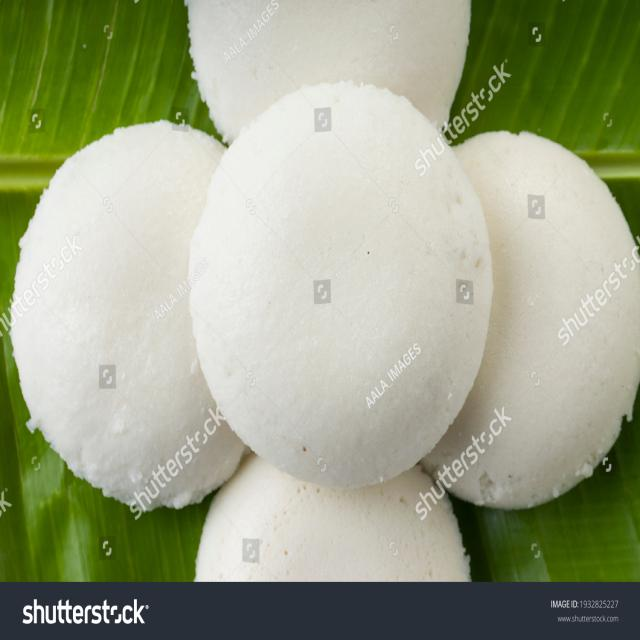IDLI: (185, 81, 493, 487), (14, 120, 248, 509), (413, 130, 640, 506), (182, 0, 472, 141), (196, 450, 468, 586)
